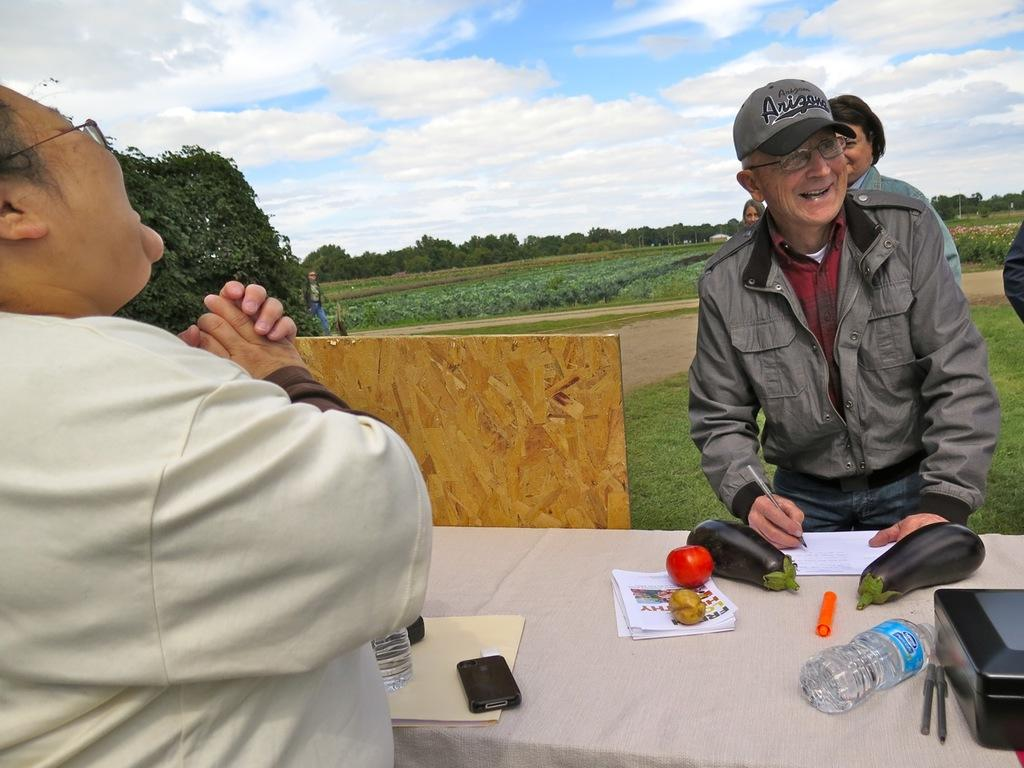Hat: (734, 77, 856, 164)
